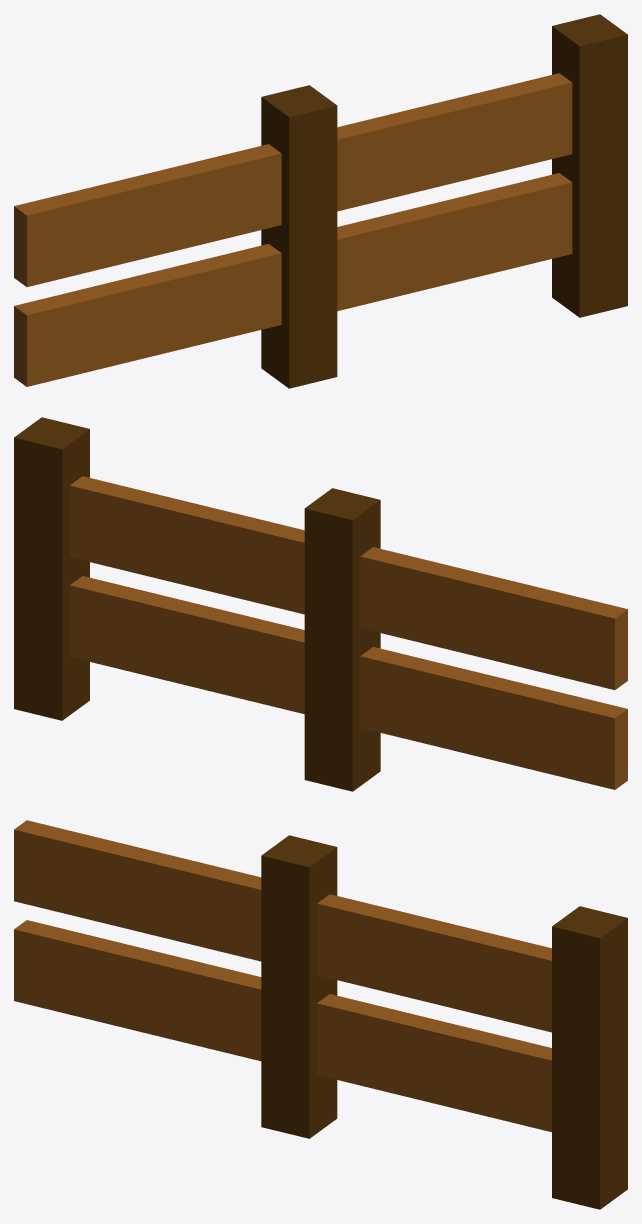
File: Fence.fbx
The picture shows the model from 3 angles, top to bottom: view 1: azimuth 30°, elevation 25°; view 2: azimuth 150°, elevation 25°; view 3: azimuth 330°, elevation 25°; orthographic projection.
Visible parts, largest first — view 1: Cube.018, Cube.019, Cube.017, Cube.016, Cube.003, Cube.002; view 2: Cube.018, Cube.019, Cube.017, Cube.016, Cube.003, Cube.002; view 3: Cube.002, Cube.019, Cube.018, Cube.017, Cube.016, Cube.003.
Boxes of the visible parts, x1,y1,x2,y2 form: Cube.018: (14, 244, 281, 386); Cube.019: (14, 144, 281, 286); Cube.017: (337, 73, 572, 211); Cube.016: (337, 173, 572, 311); Cube.003: (261, 85, 337, 388); Cube.002: (552, 14, 627, 317); Cube.018: (360, 647, 627, 789); Cube.019: (360, 547, 627, 689); Cube.017: (69, 476, 304, 614); Cube.016: (69, 576, 304, 714); Cube.003: (304, 488, 380, 791); Cube.002: (14, 417, 89, 720); Cube.002: (552, 906, 627, 1209); Cube.019: (14, 820, 261, 961); Cube.018: (14, 920, 261, 1061); Cube.017: (317, 894, 551, 1032); Cube.016: (317, 994, 551, 1132); Cube.003: (261, 835, 337, 1138).
Bounding box in the file's own units: 204 × 89.28 × 16.61.
